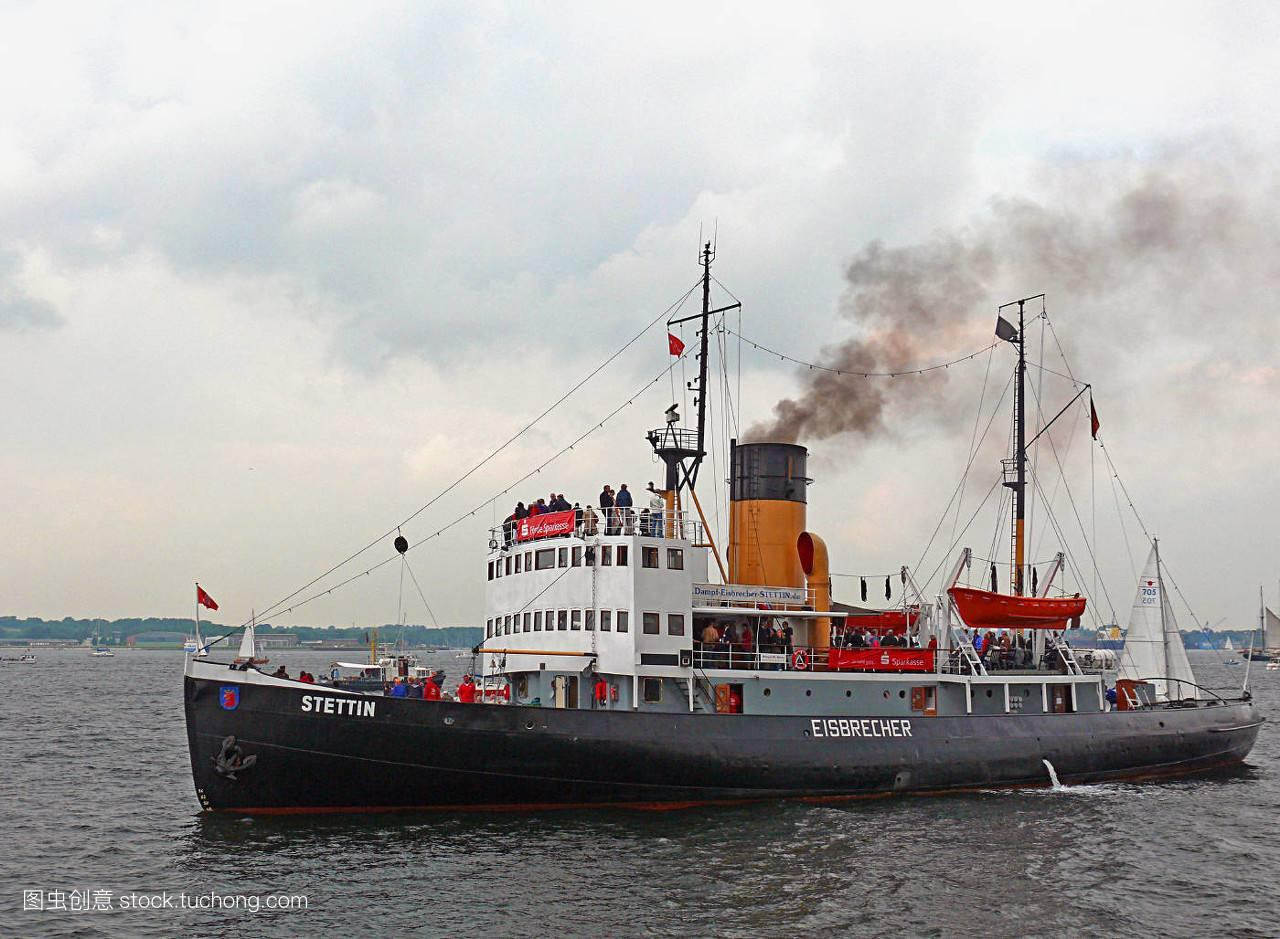otherboat: (170, 414, 1263, 821)
